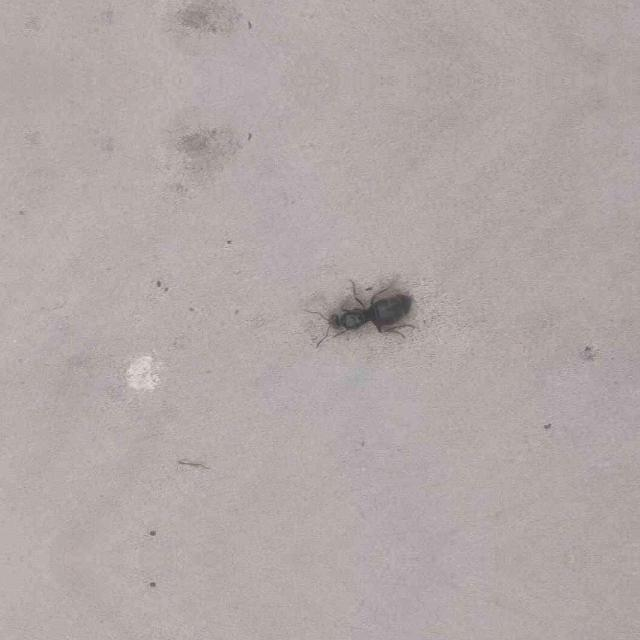Lasius: (314, 283, 416, 345)
